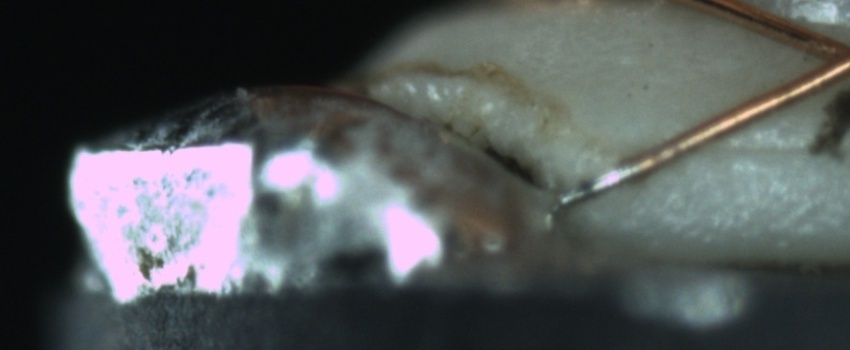CL: (782, 16, 848, 101)
DL: (689, 116, 848, 186)
TS: (556, 157, 640, 208)
